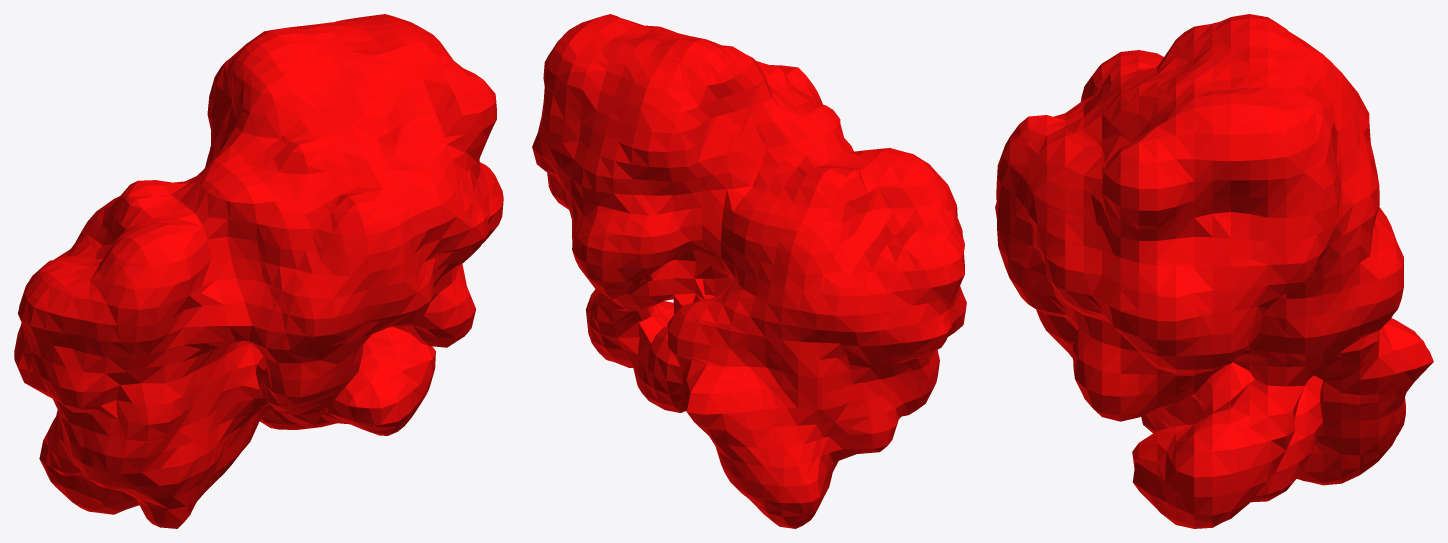
Rendered from katG_coarse.dae.
3 renders of one model, left to right at view 1: azimuth 30°, elevation 25°; view 2: azimuth 150°, elevation 25°; view 3: azimuth 270°, elevation 25°, orthographic. The views are drawn at different scales.
Parts seen in each view (by area): view 1: katG; view 2: katG; view 3: katG.
Part boxes in pixels (x1=…): katG: x1=14, y1=14, x2=503, y2=528; katG: x1=532, y1=14, x2=966, y2=528; katG: x1=995, y1=14, x2=1433, y2=528.
Size of the model in its own units: 86.73 by 84.42 by 62.05.
